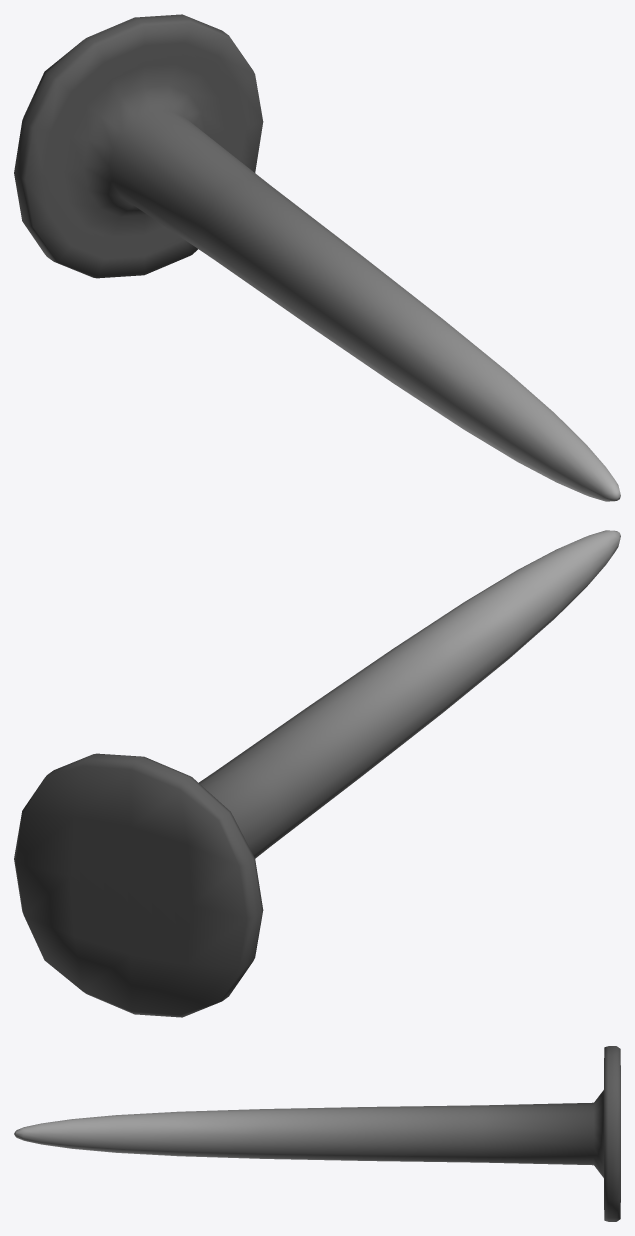
File: nails.fbx
The picture shows the model from 3 angles, top to bottom: view 1: azimuth 30°, elevation 25°; view 2: azimuth 150°, elevation 25°; view 3: azimuth 270°, elevation 25°; orthographic projection. The views are drawn at different scales.
Parts seen in each view (by area): view 1: Cube.014; view 2: Cube.014; view 3: Cube.014.
Boxes of the visible parts, box(x1,y1,x2,y2) form: Cube.014: box(14, 14, 620, 501); Cube.014: box(14, 530, 620, 1017); Cube.014: box(14, 1046, 620, 1221).
Bounding box in the file's own units: 10.27 × 10.27 × 35.91.
